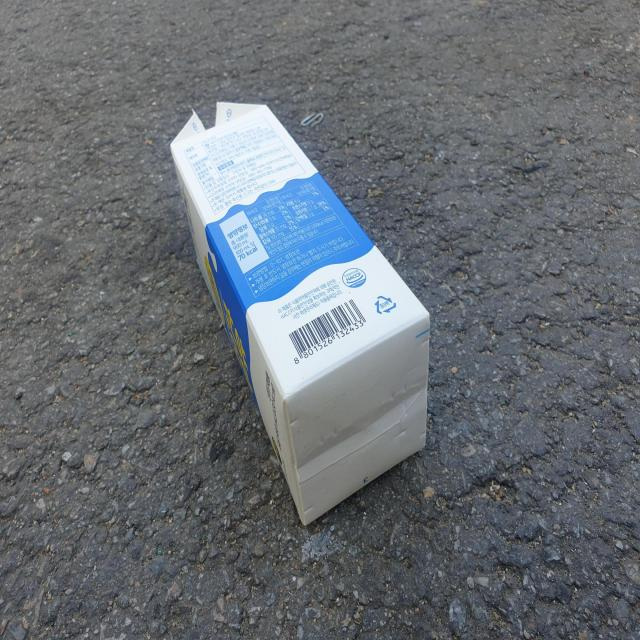paperpack: (170, 101, 430, 525)
